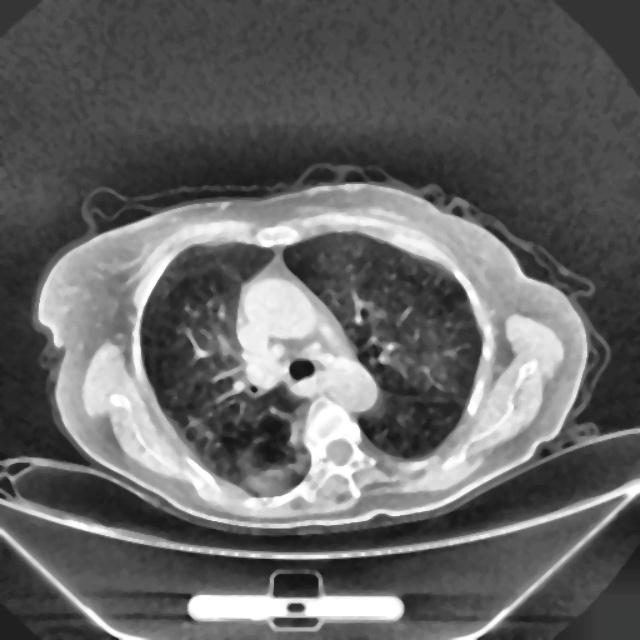covid: (32, 176, 592, 535)
